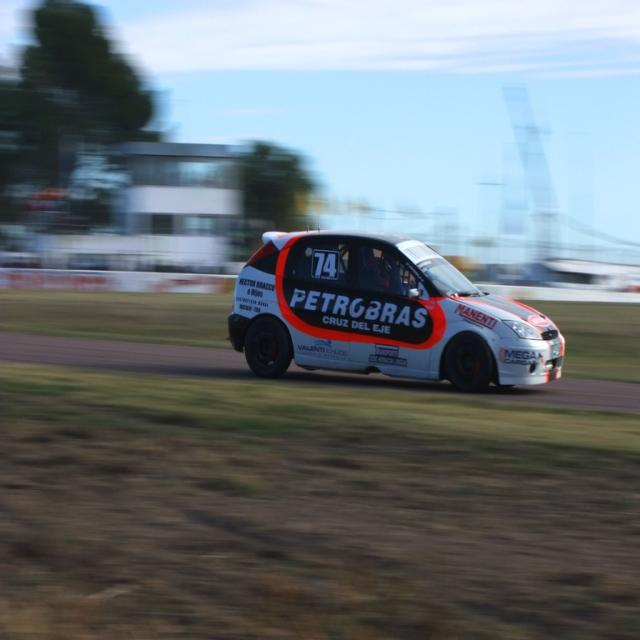car: (213, 208, 572, 384)
